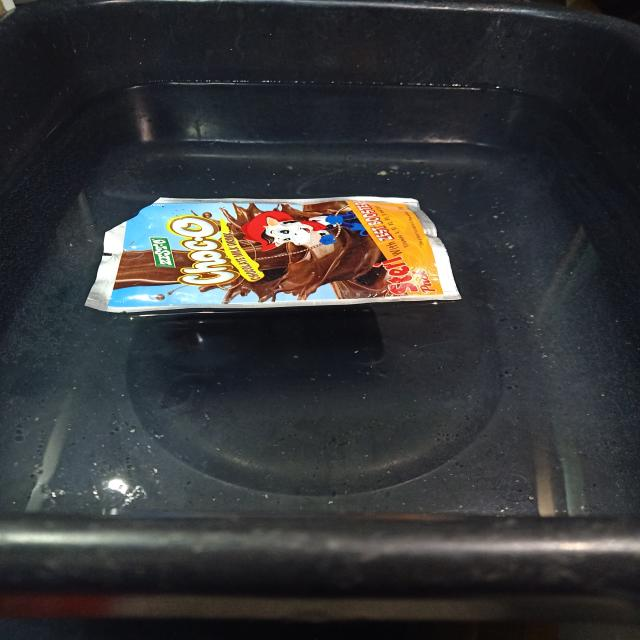Plastic Pouch: (85, 197, 461, 315)
